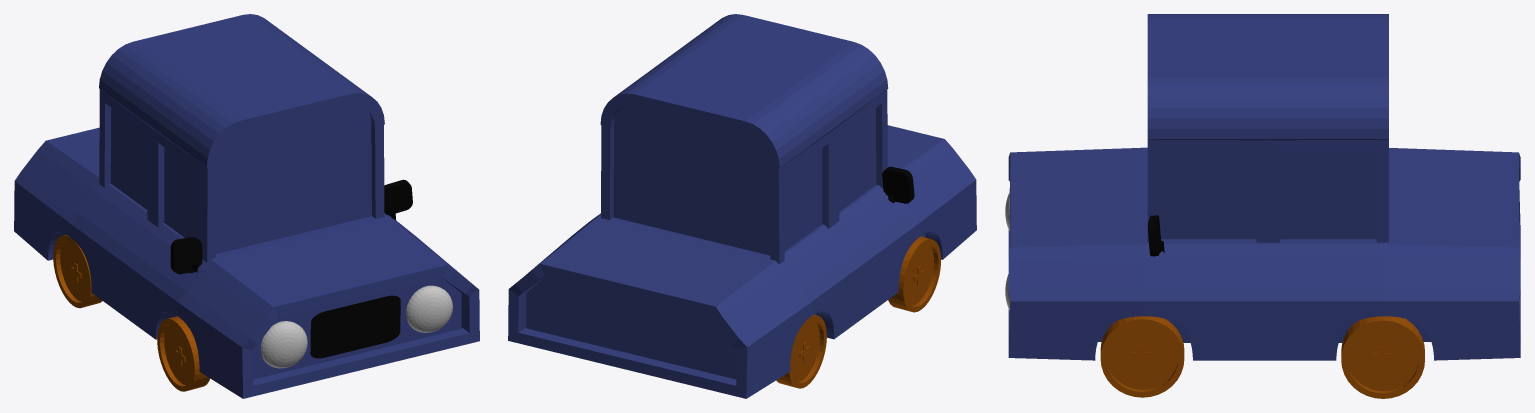
File: carro2.glb
3 renders of one model, left to right at view 1: azimuth 30°, elevation 25°; view 2: azimuth 150°, elevation 25°; view 3: azimuth 270°, elevation 25°, orthographic. The views are drawn at different scales.
Parts seen in each view (by area): view 1: Cubo, Cube, Cilindro, Plano.001, Esfera UV, Esfera UV.001, Cubo.002, Cubo.001; view 2: Cube, Cubo, Cilindro, Cubo.002; view 3: Cube, Cubo, Cilindro, Cubo.001.
Part boxes in pixels (x1,y1,x2,y2): Cubo: (99,14,384,262); Cube: (14,127,479,398); Cilindro: (53,234,209,391); Plano.001: (310,295,400,358); Esfera UV: (406,285,452,332); Esfera UV.001: (260,321,307,368); Cubo.002: (170,237,202,274); Cubo.001: (384,179,412,220); Cube: (508,125,976,398); Cubo: (600,14,888,264); Cilindro: (776,236,940,388); Cubo.002: (882,166,914,203); Cube: (1008,147,1520,360); Cubo: (1147,14,1388,242); Cilindro: (1100,316,1424,398); Cubo.001: (1147,215,1164,256).
Bounding box in the file's own units: 2.4 × 2.25 × 3.74.
